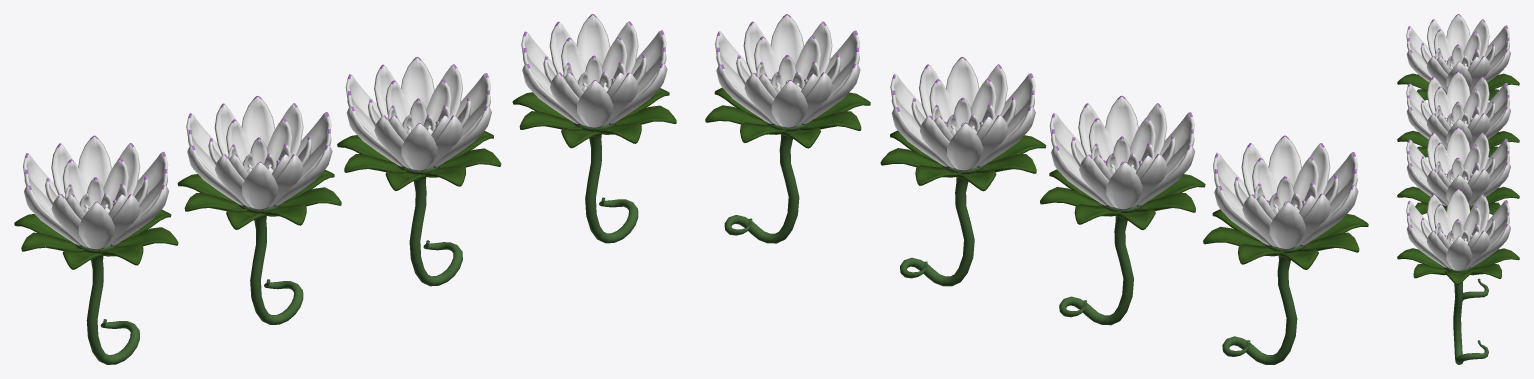
Rendered from Flower_Lotus-Stylized.fbx.
3 views of the same model, side by side, from view 1: azimuth 30°, elevation 25°; view 2: azimuth 150°, elevation 25°; view 3: azimuth 270°, elevation 25° (orthographic). The views are drawn at different scales.
Visible parts, largest first — view 1: Flower_Lotus-Stylized, Flower_Lotus-Stylized.003, Flower_Lotus-Stylized.002, Flower_Lotus-Stylized.001; view 2: Flower_Lotus-Stylized.003, Flower_Lotus-Stylized.002, Flower_Lotus-Stylized.001, Flower_Lotus-Stylized; view 3: Flower_Lotus-Stylized.003, Flower_Lotus-Stylized.002, Flower_Lotus-Stylized, Flower_Lotus-Stylized.001.
Boxes of the visible parts, <box> form: Flower_Lotus-Stylized: <box>14,135,178,364</box>; Flower_Lotus-Stylized.003: <box>512,14,676,243</box>; Flower_Lotus-Stylized.002: <box>337,57,501,286</box>; Flower_Lotus-Stylized.001: <box>177,96,341,324</box>; Flower_Lotus-Stylized.003: <box>705,14,870,243</box>; Flower_Lotus-Stylized.002: <box>880,57,1046,286</box>; Flower_Lotus-Stylized.001: <box>1040,95,1205,325</box>; Flower_Lotus-Stylized: <box>1203,135,1368,364</box>; Flower_Lotus-Stylized.003: <box>1397,188,1519,364</box>; Flower_Lotus-Stylized.002: <box>1397,127,1519,301</box>; Flower_Lotus-Stylized: <box>1397,14,1519,100</box>; Flower_Lotus-Stylized.001: <box>1397,71,1519,157</box>.
Bounding box in the file's own units: 97.24 × 28.76 × 22.27.
